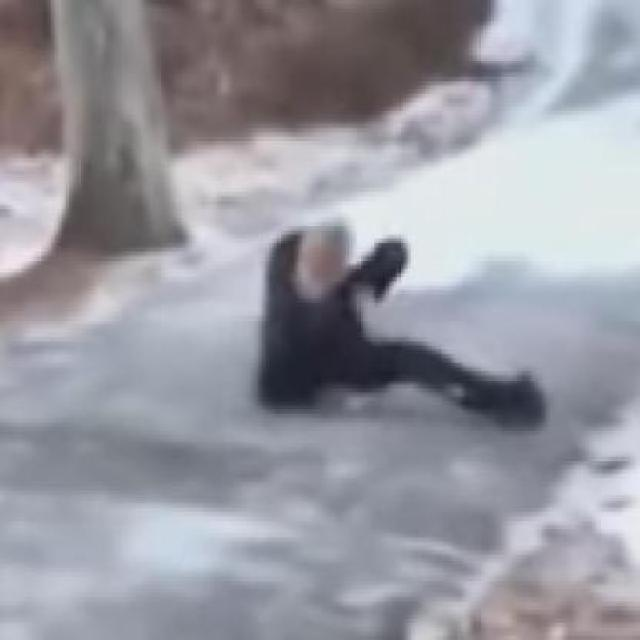fall: (251, 206, 551, 429)
